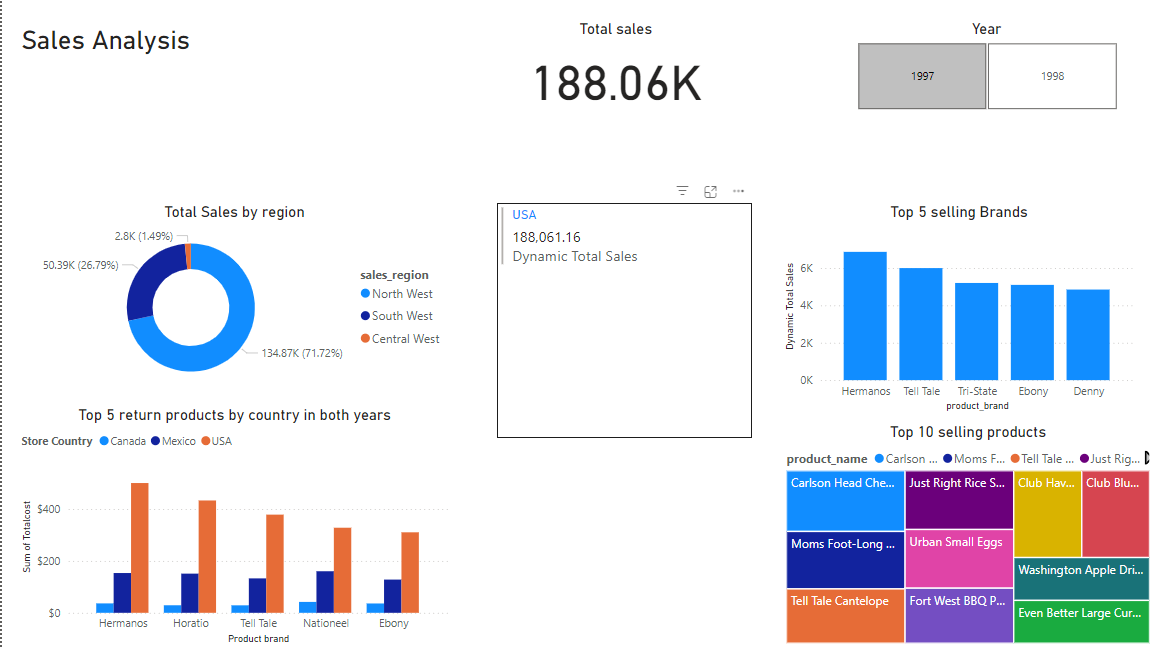

What the dashboard file says about the page in this screenshot:
{"tool":"powerbi","page":{"name":"Sales Analysis","canvas":[1280,720],"ordinal":0},"visuals":[{"type":"card","title":"Total sales","fields":{"Values":["MavenMarket_Transactions_1997.Dynamic Total Sales"]},"box":[511.6,22,341.7,105.9],"z":0},{"type":"slicer","title":"Year","fields":{"Values":["MavenMarket_Calendar.date.Variation.Date Hierarchy.Year"]},"box":[936.7,21.1,325.6,105.6],"z":1000},{"type":"textbox","box":[16.7,22.2,205.6,53.3],"z":2000},{"type":"donutChart","title":"Total Sales by region","fields":{"Y":["MavenMarket_Transactions_1997.Dynamic Total Sales"],"Category":["MavenMarket_Regions.sales_region"]},"box":[16.7,203.3,483.3,213.3],"z":3000},{"type":"columnChart","title":"Top 5 selling Brands","fields":{"Category":["MavenMarket_Products.product_brand"],"Y":["MavenMarket_Transactions_1997.Dynamic Total Sales"]},"box":[864.3,225.8,397.7,235.8],"z":4000},{"type":"multiRowCard","fields":{"Values":["MavenMarket_Transactions_1997.Dynamic Total Sales","MavenMarket_Customers.customer_country"]},"box":[550,225.6,283.3,261.1],"z":5000},{"type":"clusteredColumnChart","title":"Top 5 return products by country in both years","fields":{"Category":["MavenMarket_Returns_1997-1998.Product brand"],"Y":["Sum(MavenMarket_Returns_1997-1998.Totalcost)"],"Series":["MavenMarket_Stores.store_country"]},"box":[16.7,451.1,494.4,255.6],"z":6000},{"type":"treemap","title":"Top 10 selling products","fields":{"Group":["MavenMarket_Products.product_name"],"Values":["MavenMarket_Transactions_1997.Dynamic Total Sales"]},"box":[866.3,469.6,413.7,250.8],"z":7000},{"type":"actionButton","box":[451.1,451.1,41.1,35.6],"z":8000}]}

Visuals, with their boxes in screenshot pixels (x1, y1, x2, y2), scaled from the page's 1280x720 canvas onto the 1152x648 screenshot:
"Total sales" card: 460 20 768 115
"Year" slicer: 843 19 1136 114
textbox: 15 20 200 68
"Total Sales by region" donutChart: 15 183 450 375
"Top 5 selling Brands" columnChart: 778 203 1136 415
multiRowCard - MavenMarket_Transactions_1997.Dynamic Total Sales x MavenMarket_Customers.customer_country: 495 203 750 438
"Top 5 return products by country in both years" clusteredColumnChart: 15 406 460 636
"Top 10 selling products" treemap: 780 423 1151 647
actionButton: 406 406 443 438
